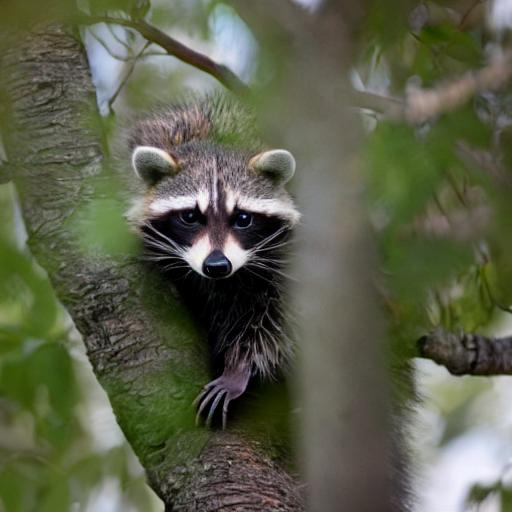raccoon: (105, 88, 303, 310)
